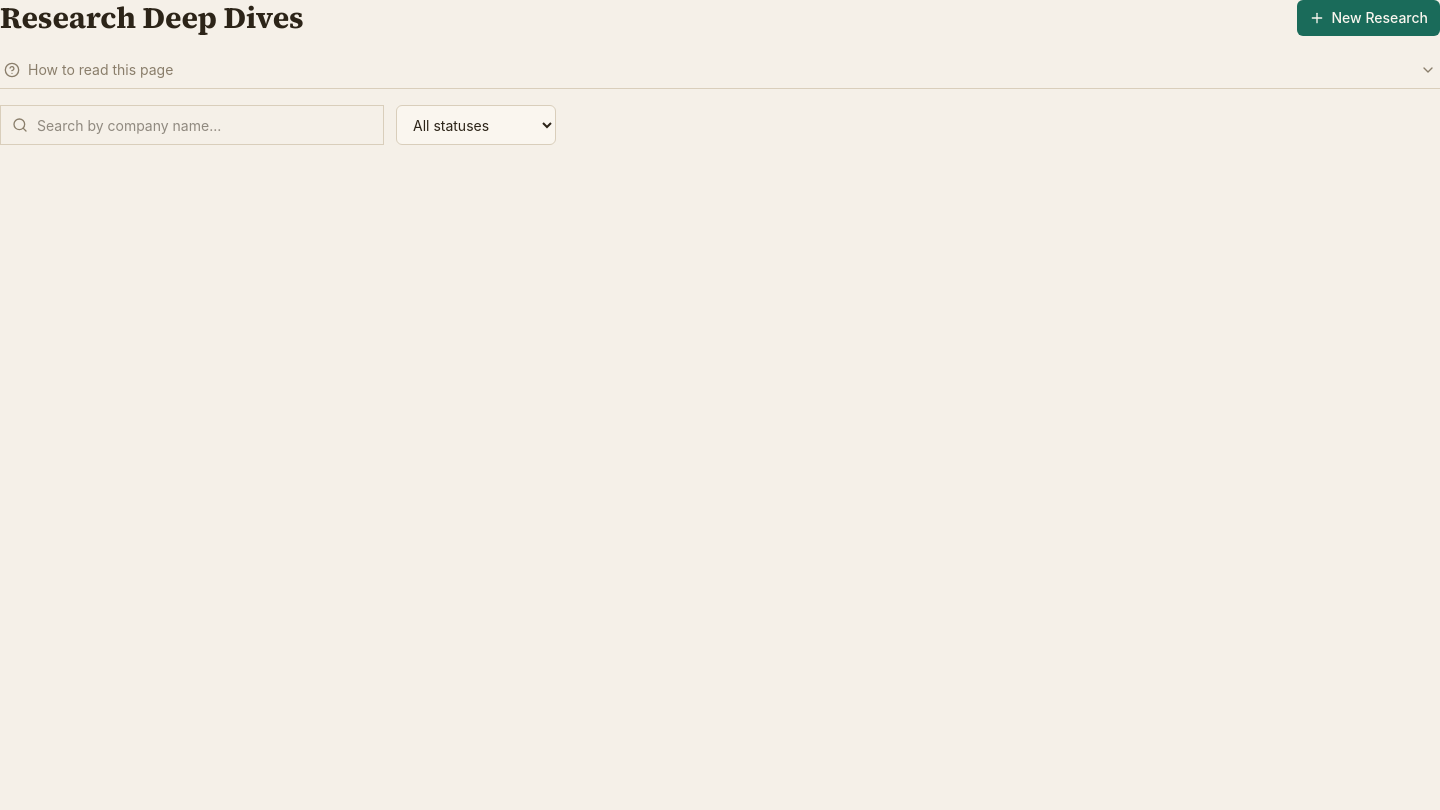
Test: ResearchPage › opens new research modal on button click
This screenshot has width=1440, height=810.
Click the button "New Research": point(1369, 18) [1298, 0, 1439, 36]
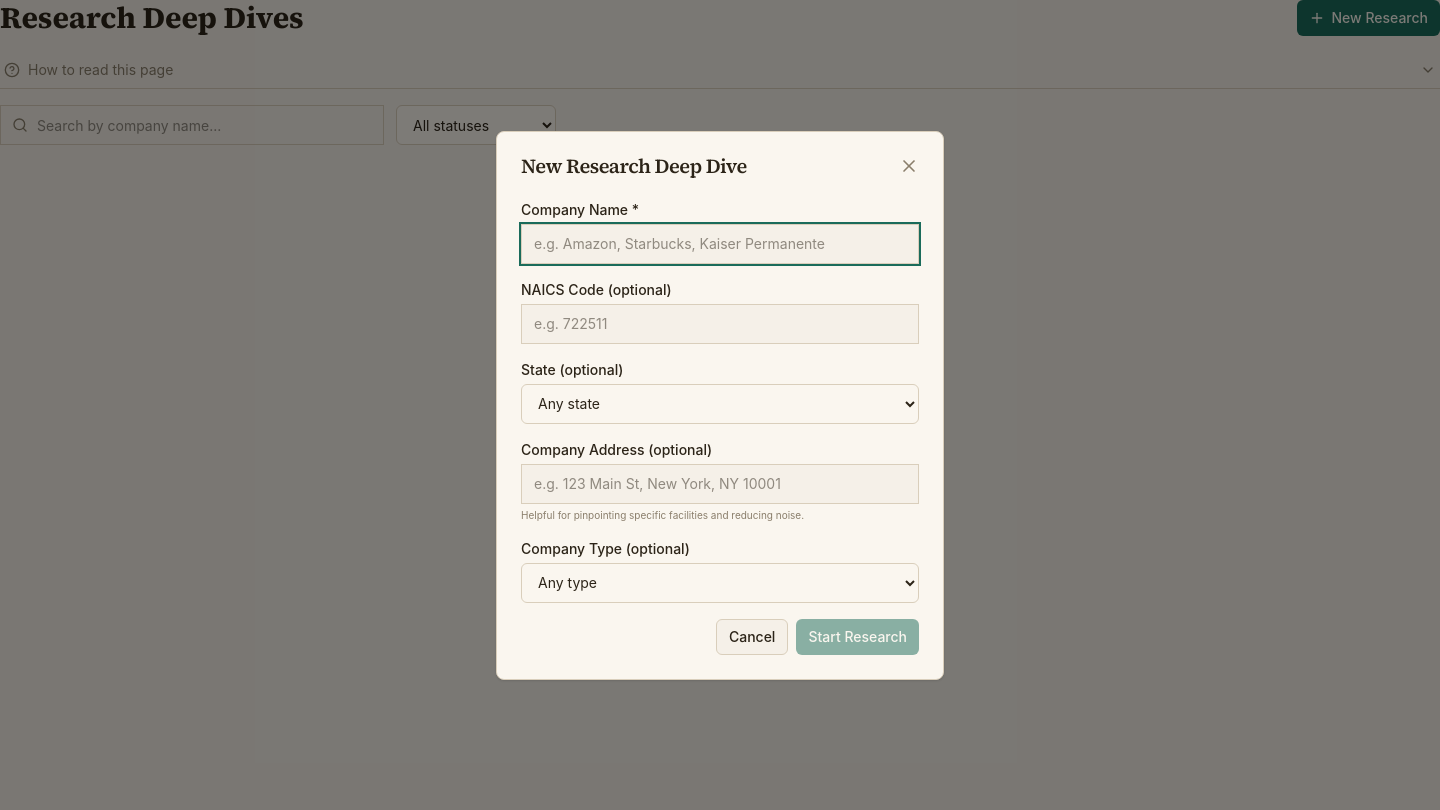
Expected: the heading "New Research Deep Dive" is shown, [521, 156, 747, 176]
Expected: the text "Company Name *" is shown, [521, 200, 639, 218]
